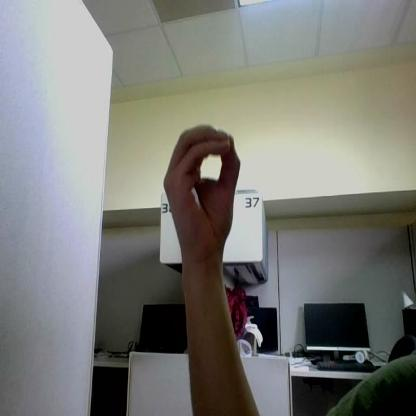O: (164, 124, 239, 251)
